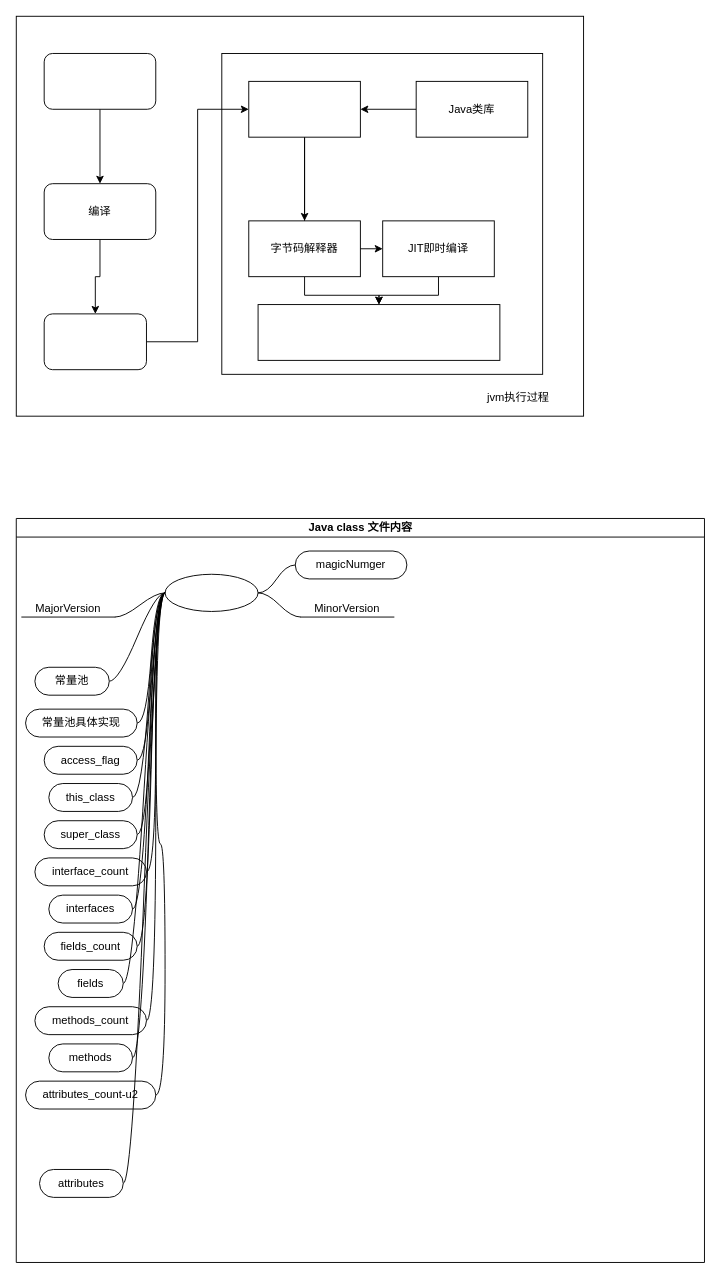
This 721x1279 diagram has some shape labels left out. The shapes that lost their labels are listed below. From the top down, each one's centre as x and y in pixels, then its label:
At point 99,81: "*.java".
At point 304,108: "classLoader".
At point 94,341: ".class".
At point 378,332: "执行引擎".
At point 211,592: "Central Idea".
